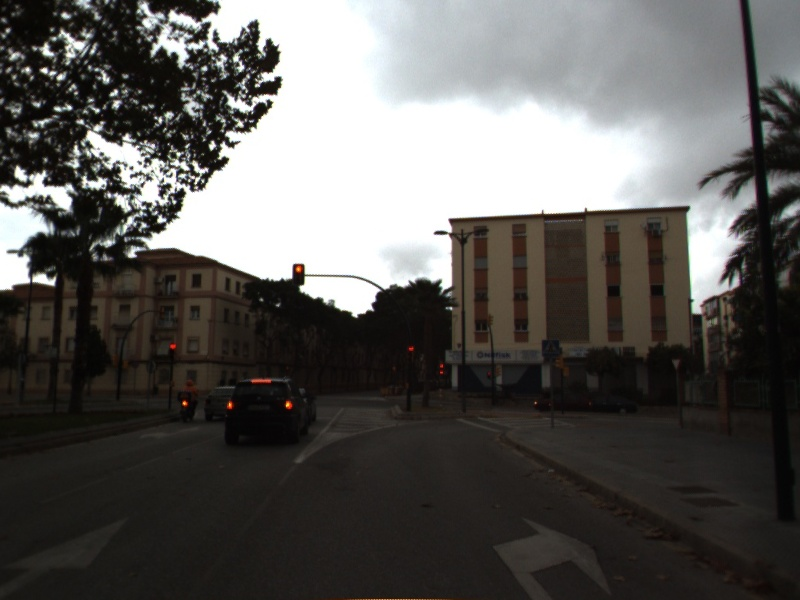RIGHT: (489, 514, 617, 600)
STRAIGHT: (1, 511, 134, 597)
